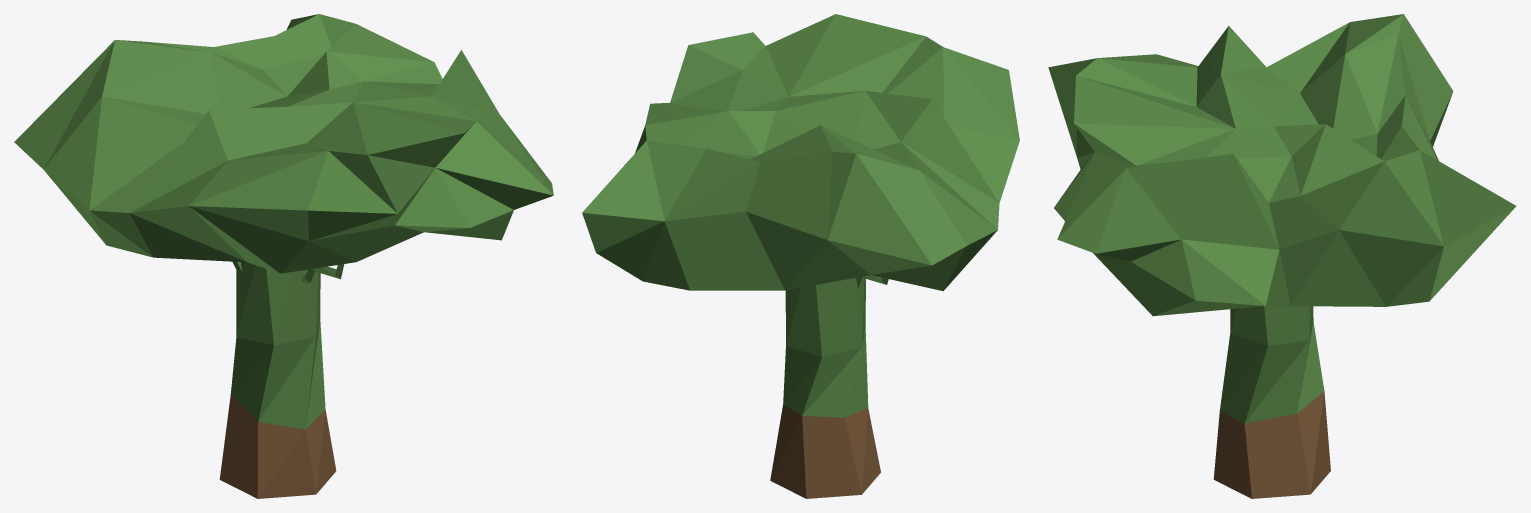
Rendered from tree3d-057.glb.
3 views of the same model, side by side, from view 1: azimuth 30°, elevation 25°; view 2: azimuth 150°, elevation 25°; view 3: azimuth 270°, elevation 25° (orthographic). The views are drawn at different scales.
Parts seen in each view (by area): view 1: tree3d-057; view 2: tree3d-057; view 3: tree3d-057.
Boxes of the visible parts, x1,y1,x2,y2 form: tree3d-057: [14, 14, 553, 498]; tree3d-057: [582, 14, 1019, 498]; tree3d-057: [1048, 14, 1516, 498].
Bounding box in the file's own units: 1.03 × 1 × 1.03.
